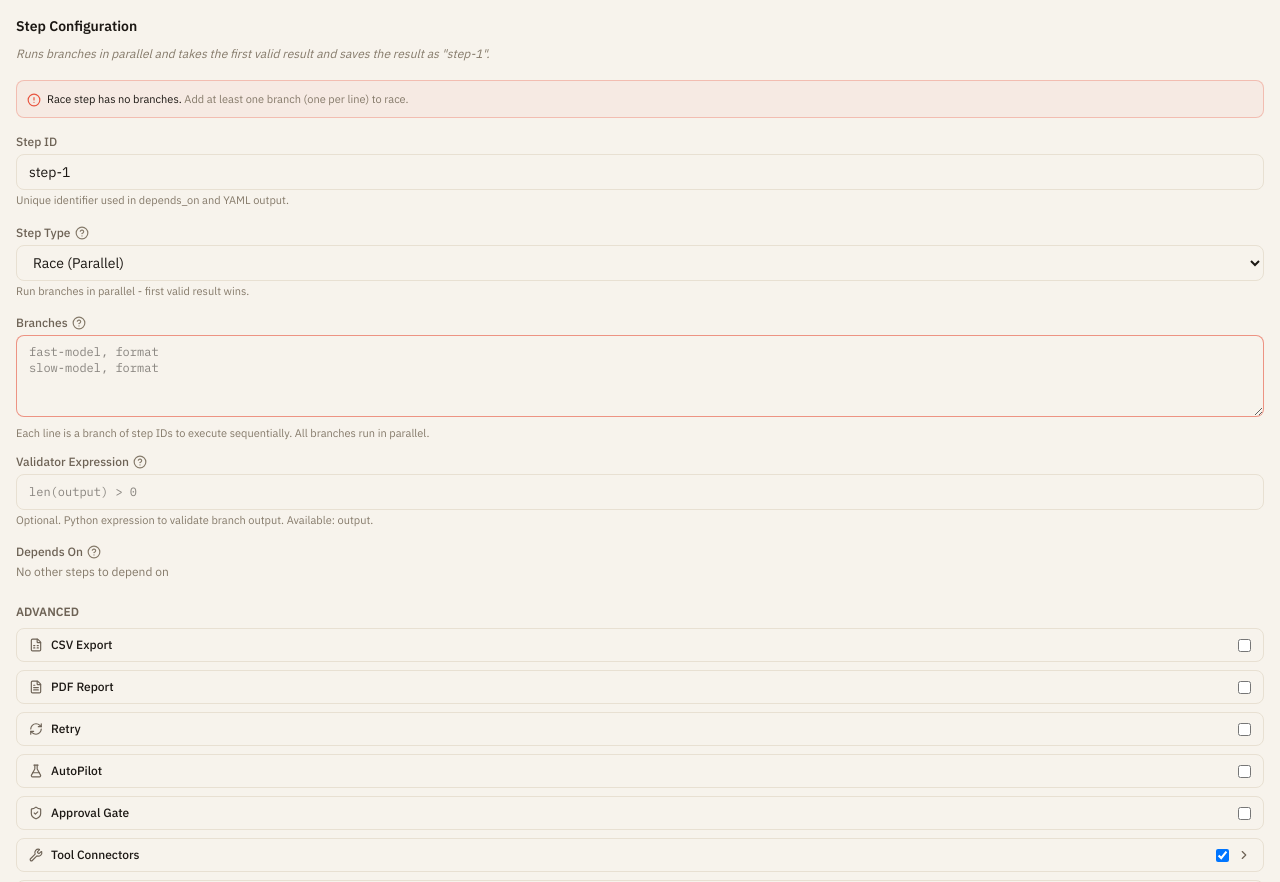
Test: StepConfigPanel — field-level help (②) › exposes help content for the race Validator Expression field
The width and height of the screenshot is (1280, 882).
Focus the element named "Validator Expression help" next to "Validator Expression". click: (140, 462)
box: [133,454,147,468]
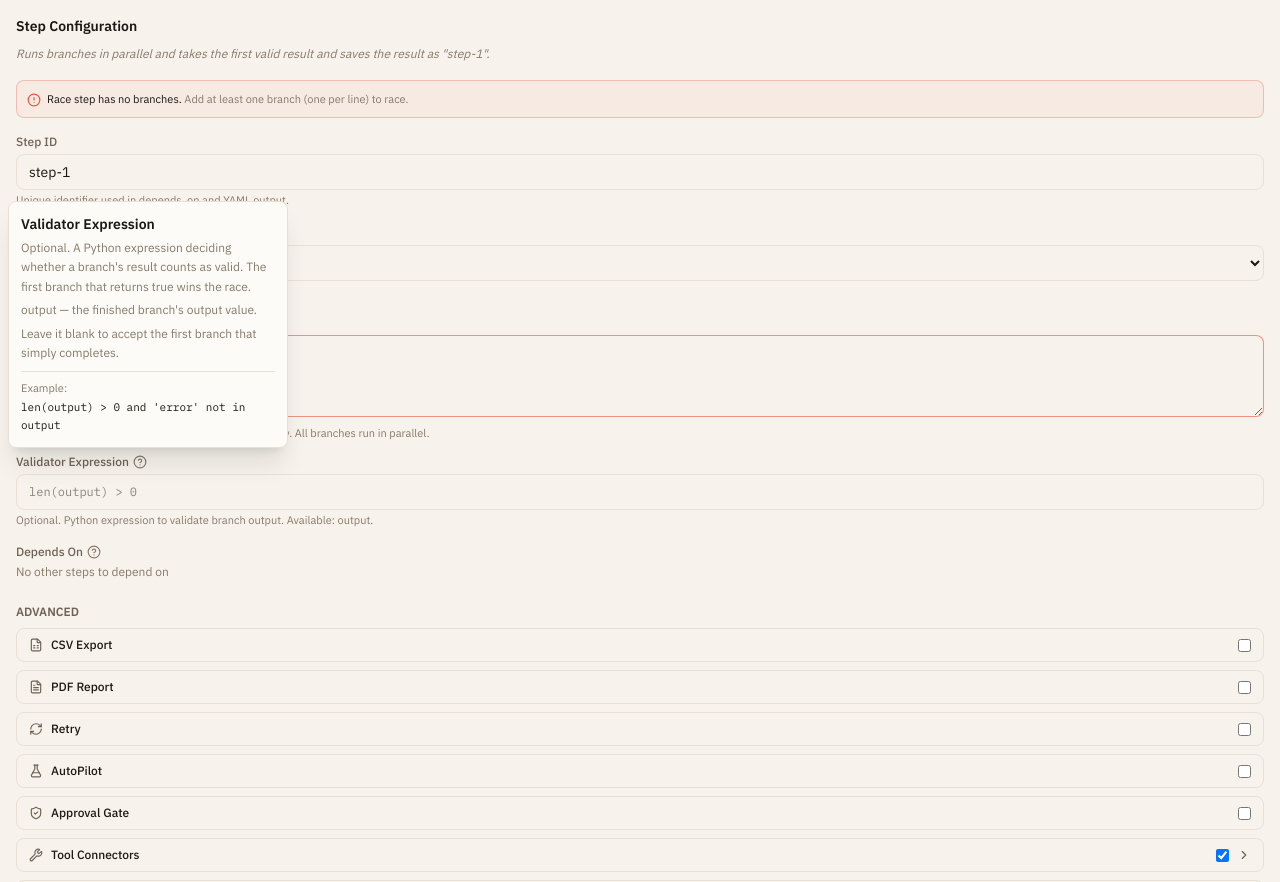
expect the text "output — the finished branch's output value." is shown: met, box [21,300,275,320]
expect the text "len(output) > 0 and 'error' not in output" is shown: met, box [21,399,275,435]
